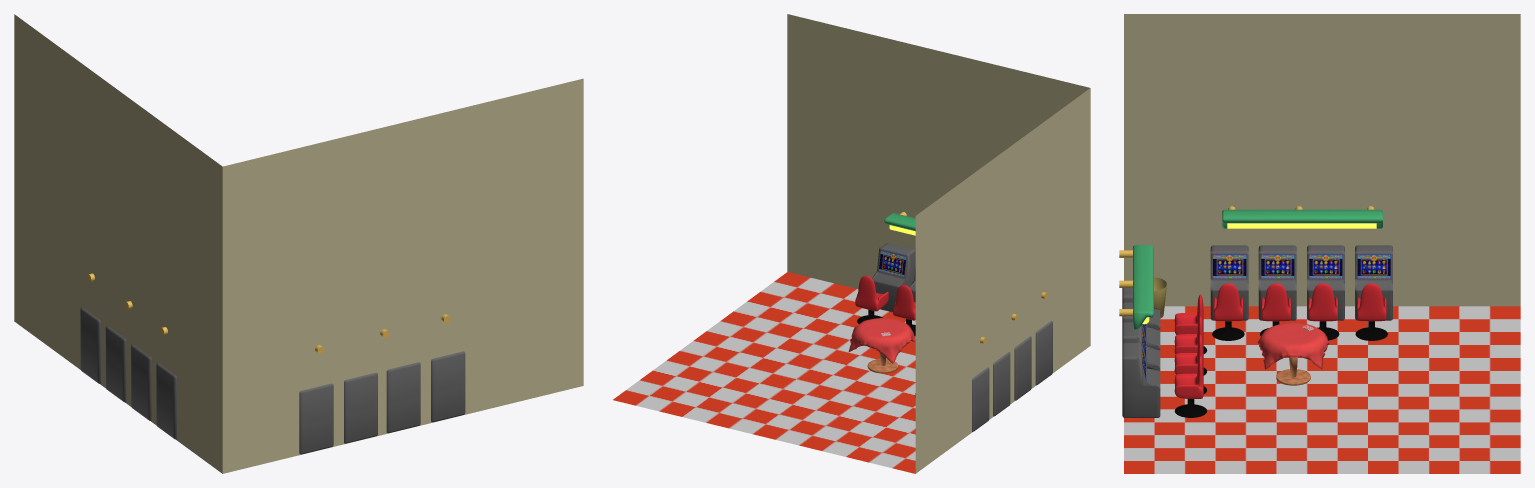
File: casino.glb
3 views of the same model, side by side, from view 1: azimuth 30°, elevation 25°; view 2: azimuth 150°, elevation 25°; view 3: azimuth 270°, elevation 25° (orthographic). The views are drawn at different scales.
Visible parts, largest first — view 1: wall, slotmachine4, slotmachine1, slotmachine2, slotmachine3, slotmachine1.003, slotmachine1.001, slotmachine1.002, slotmachine1.004; view 2: wall, floor, slotmachine1, Plane, slotmachine1.003, slotmachine1.001, slotmachine1.002, slotmachine1.004, Cone, Cone.001, Cylinder.001; view 3: wall, floor, Cylinder.002, slotmachine1, Plane, slotmachine1.001, slotmachine1.002, Cylinder.001, slotmachine1.004, slotmachine1.003, Cone.004, Cone.007 (+9 smaller).
Boxes of the visible parts, x1=… form: wall: x1=14, y1=14, x2=583, y2=473; slotmachine4: x1=299, y1=383, x2=333, y2=454; slotmachine1: x1=431, y1=351, x2=465, y2=422; slotmachine2: x1=386, y1=362, x2=420, y2=433; slotmachine3: x1=344, y1=372, x2=377, y2=443; slotmachine1.003: x1=105, y1=325, x2=126, y2=402; slotmachine1.001: x1=156, y1=363, x2=176, y2=439; slotmachine1.002: x1=131, y1=344, x2=151, y2=420; slotmachine1.004: x1=80, y1=307, x2=100, y2=383; wall: x1=787, y1=14, x2=1090, y2=473; floor: x1=613, y1=272, x2=915, y2=473; slotmachine1: x1=872, y1=243, x2=915, y2=312; Plane: x1=848, y1=318, x2=915, y2=363; slotmachine1.003: x1=993, y1=352, x2=1010, y2=416; slotmachine1.001: x1=1035, y1=321, x2=1052, y2=385; slotmachine1.002: x1=1014, y1=336, x2=1031, y2=400; slotmachine1.004: x1=972, y1=367, x2=989, y2=431; Cone: x1=855, y1=275, x2=888, y2=323; Cone.001: x1=893, y1=285, x2=915, y2=335; Cylinder.001: x1=884, y1=212, x2=915, y2=235; wall: x1=1124, y1=14, x2=1520, y2=306; floor: x1=1124, y1=306, x2=1520, y2=473; Cylinder.002: x1=1222, y1=206, x2=1382, y2=228; slotmachine1: x1=1122, y1=342, x2=1160, y2=417; Plane: x1=1257, y1=322, x2=1329, y2=369; slotmachine1.001: x1=1210, y1=245, x2=1248, y2=320; slotmachine1.002: x1=1258, y1=245, x2=1296, y2=320; Cylinder.001: x1=1119, y1=245, x2=1153, y2=330; slotmachine1.004: x1=1355, y1=245, x2=1392, y2=320; slotmachine1.003: x1=1307, y1=245, x2=1344, y2=320; Cone.004: x1=1212, y1=283, x2=1244, y2=340; Cone.007: x1=1355, y1=283, x2=1387, y2=340.
Bounding box in the file's own units: 2.02 × 1.63 × 2.02.
14 materials, 4 textured.
